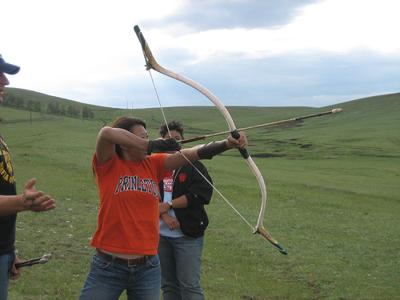person: (73, 117, 249, 300)
